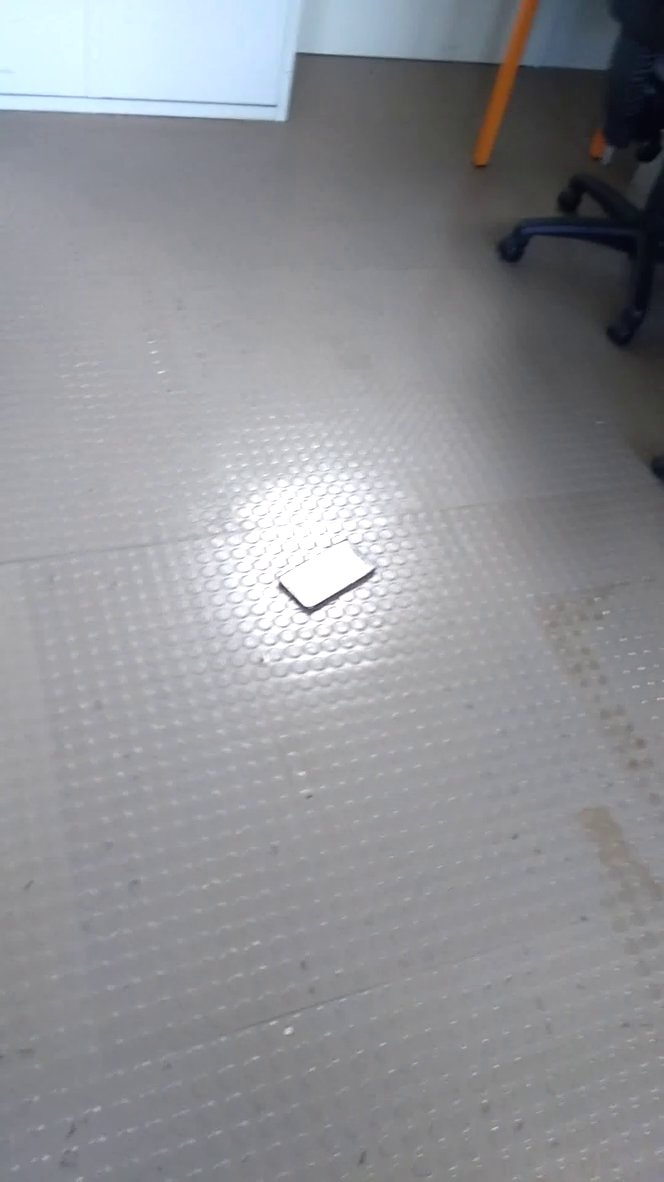phone: (257, 533, 387, 623)
